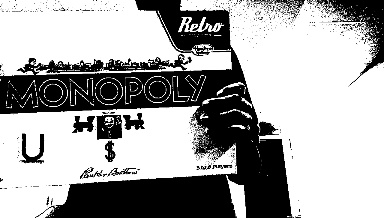U: (19, 132, 46, 160)
